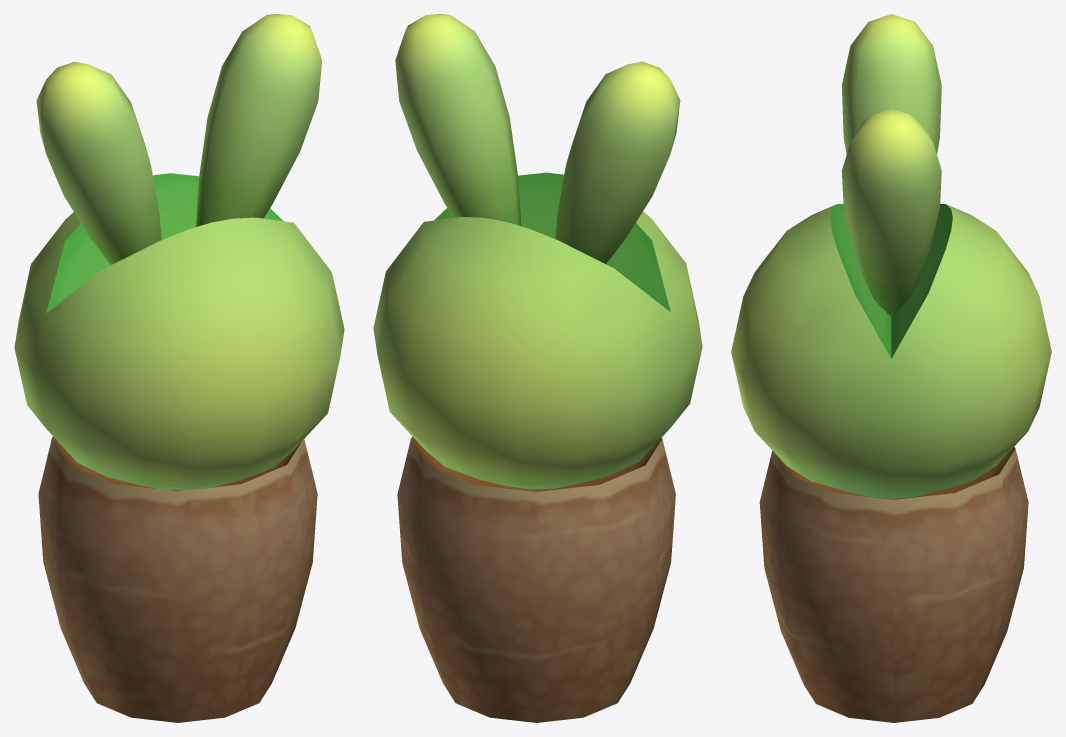
Rendered from Succulents_03_M.fbx.
The picture shows the model from 3 angles, left to right: view 1: azimuth 30°, elevation 25°; view 2: azimuth 150°, elevation 25°; view 3: azimuth 270°, elevation 25°; orthographic projection. The views are drawn at different scales.
Visible parts, largest first — view 1: Object007; view 2: Object007; view 3: Object007.
Boxes of the visible parts, x1,y1,x2,y2 form: Object007: (14,14,344,722); Object007: (373,14,702,722); Object007: (731,14,1051,722).
Bounding box in the file's own units: 16.8 × 35.73 × 16.8.
